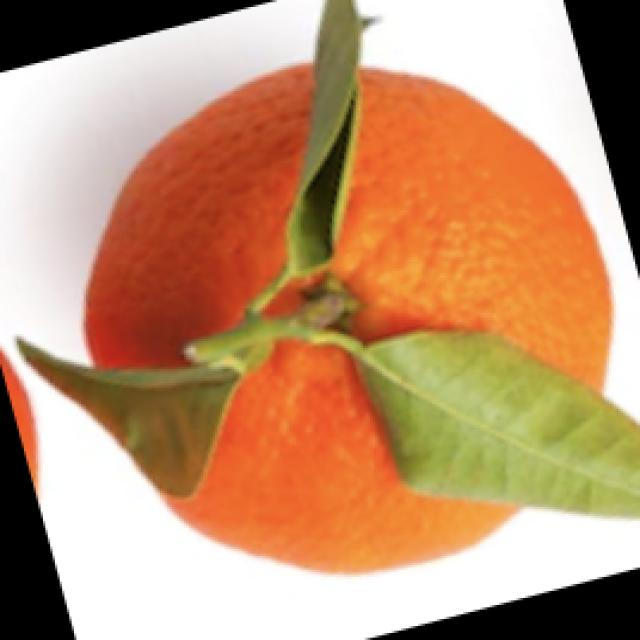matang: (82, 56, 617, 574)
